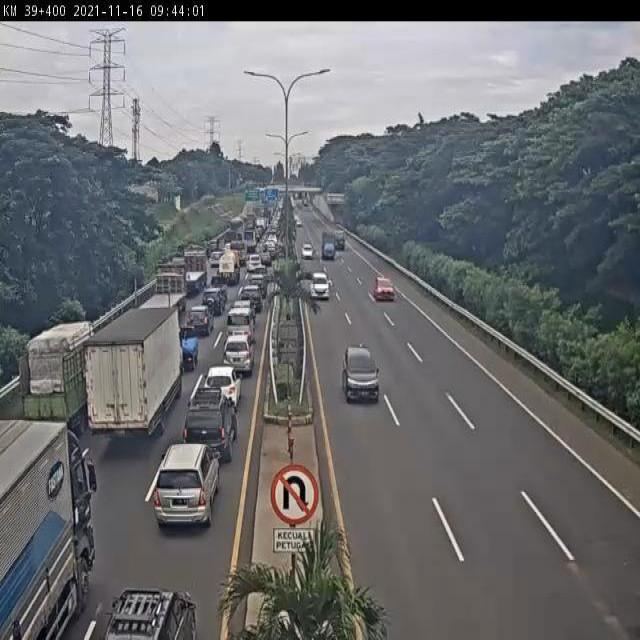car: (153, 443, 219, 533), (182, 386, 240, 458), (343, 345, 381, 404), (205, 368, 241, 411), (223, 334, 253, 374), (228, 309, 256, 344), (310, 269, 332, 300), (375, 275, 393, 304)
truck-l-: (140, 261, 188, 323), (174, 248, 210, 293)
truck-m-: (80, 307, 184, 436), (16, 321, 114, 432), (215, 250, 242, 286)
